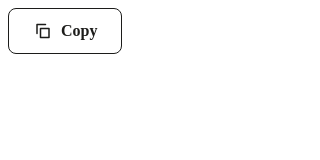
Test case: CopyButton › announces success to assistive technology
Click the button at (65, 31), box [8,8,122,54]
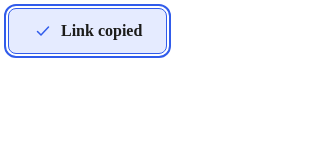
Result: the text "Link copied" is shown at [61,21,142,41]
